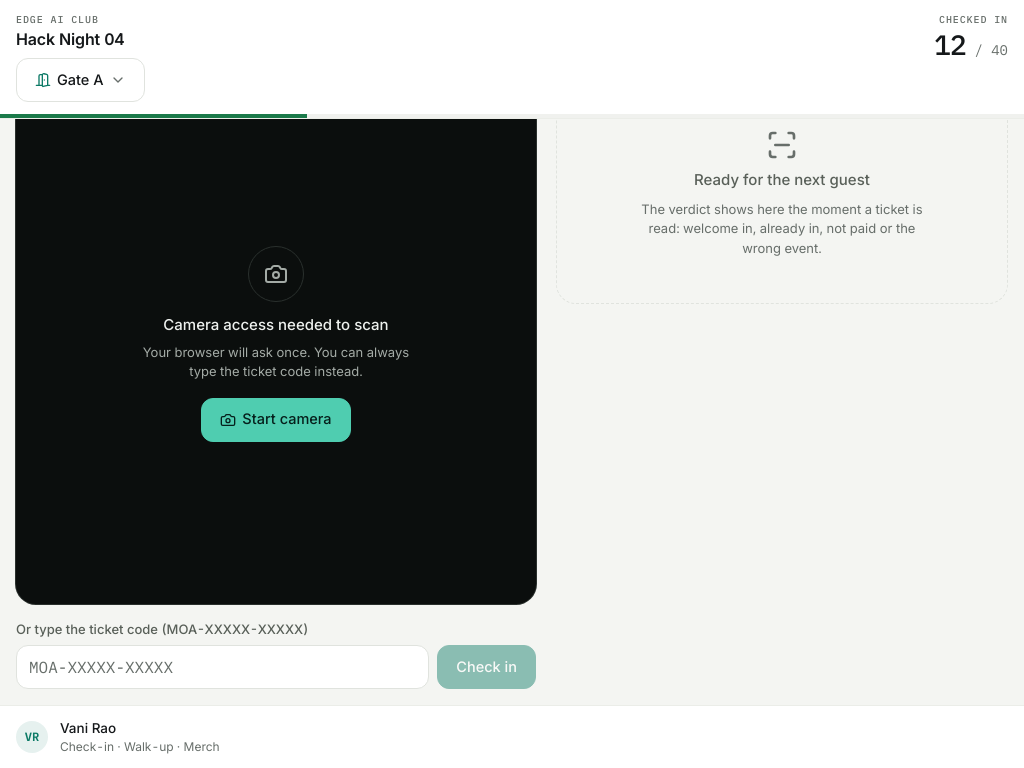
collecting a guest's number at the door › says the number is required when the event makes it so
(page scrolled)
Step 1. Type "MOA-1" into the field labelled "Or type the ticket code (MOA-XXXXX-XXXXX)" → {"x": 223, "y": 667}, box [16,645,429,689]
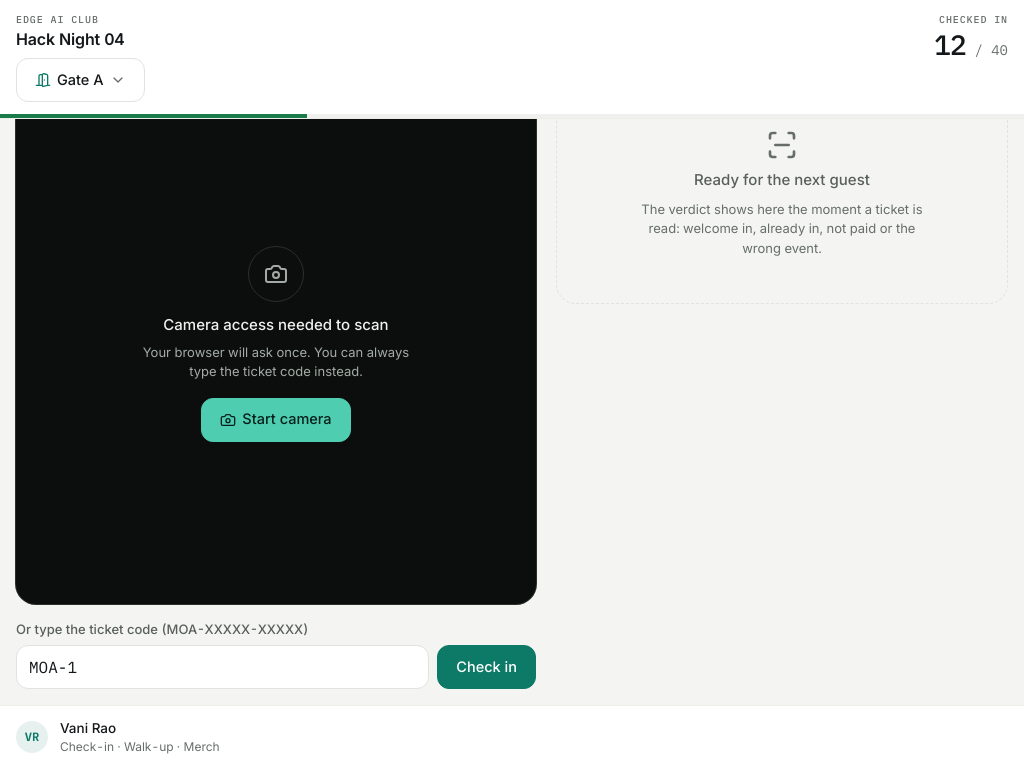
Step 2. Click the button "Check in" → {"x": 487, "y": 667}, box [437,645,536,689]
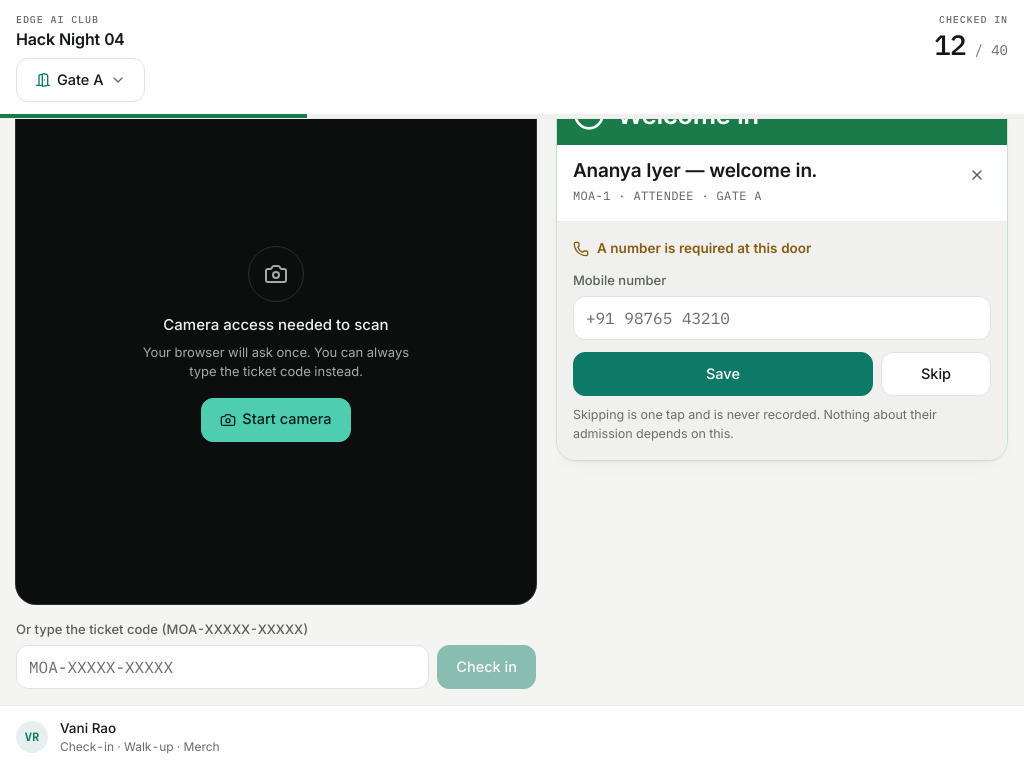
Expected: the text "A number is required at this door" is shown, [573,240,811,257]
Expected: the button "Skip" is shown, [881,352,991,396]
